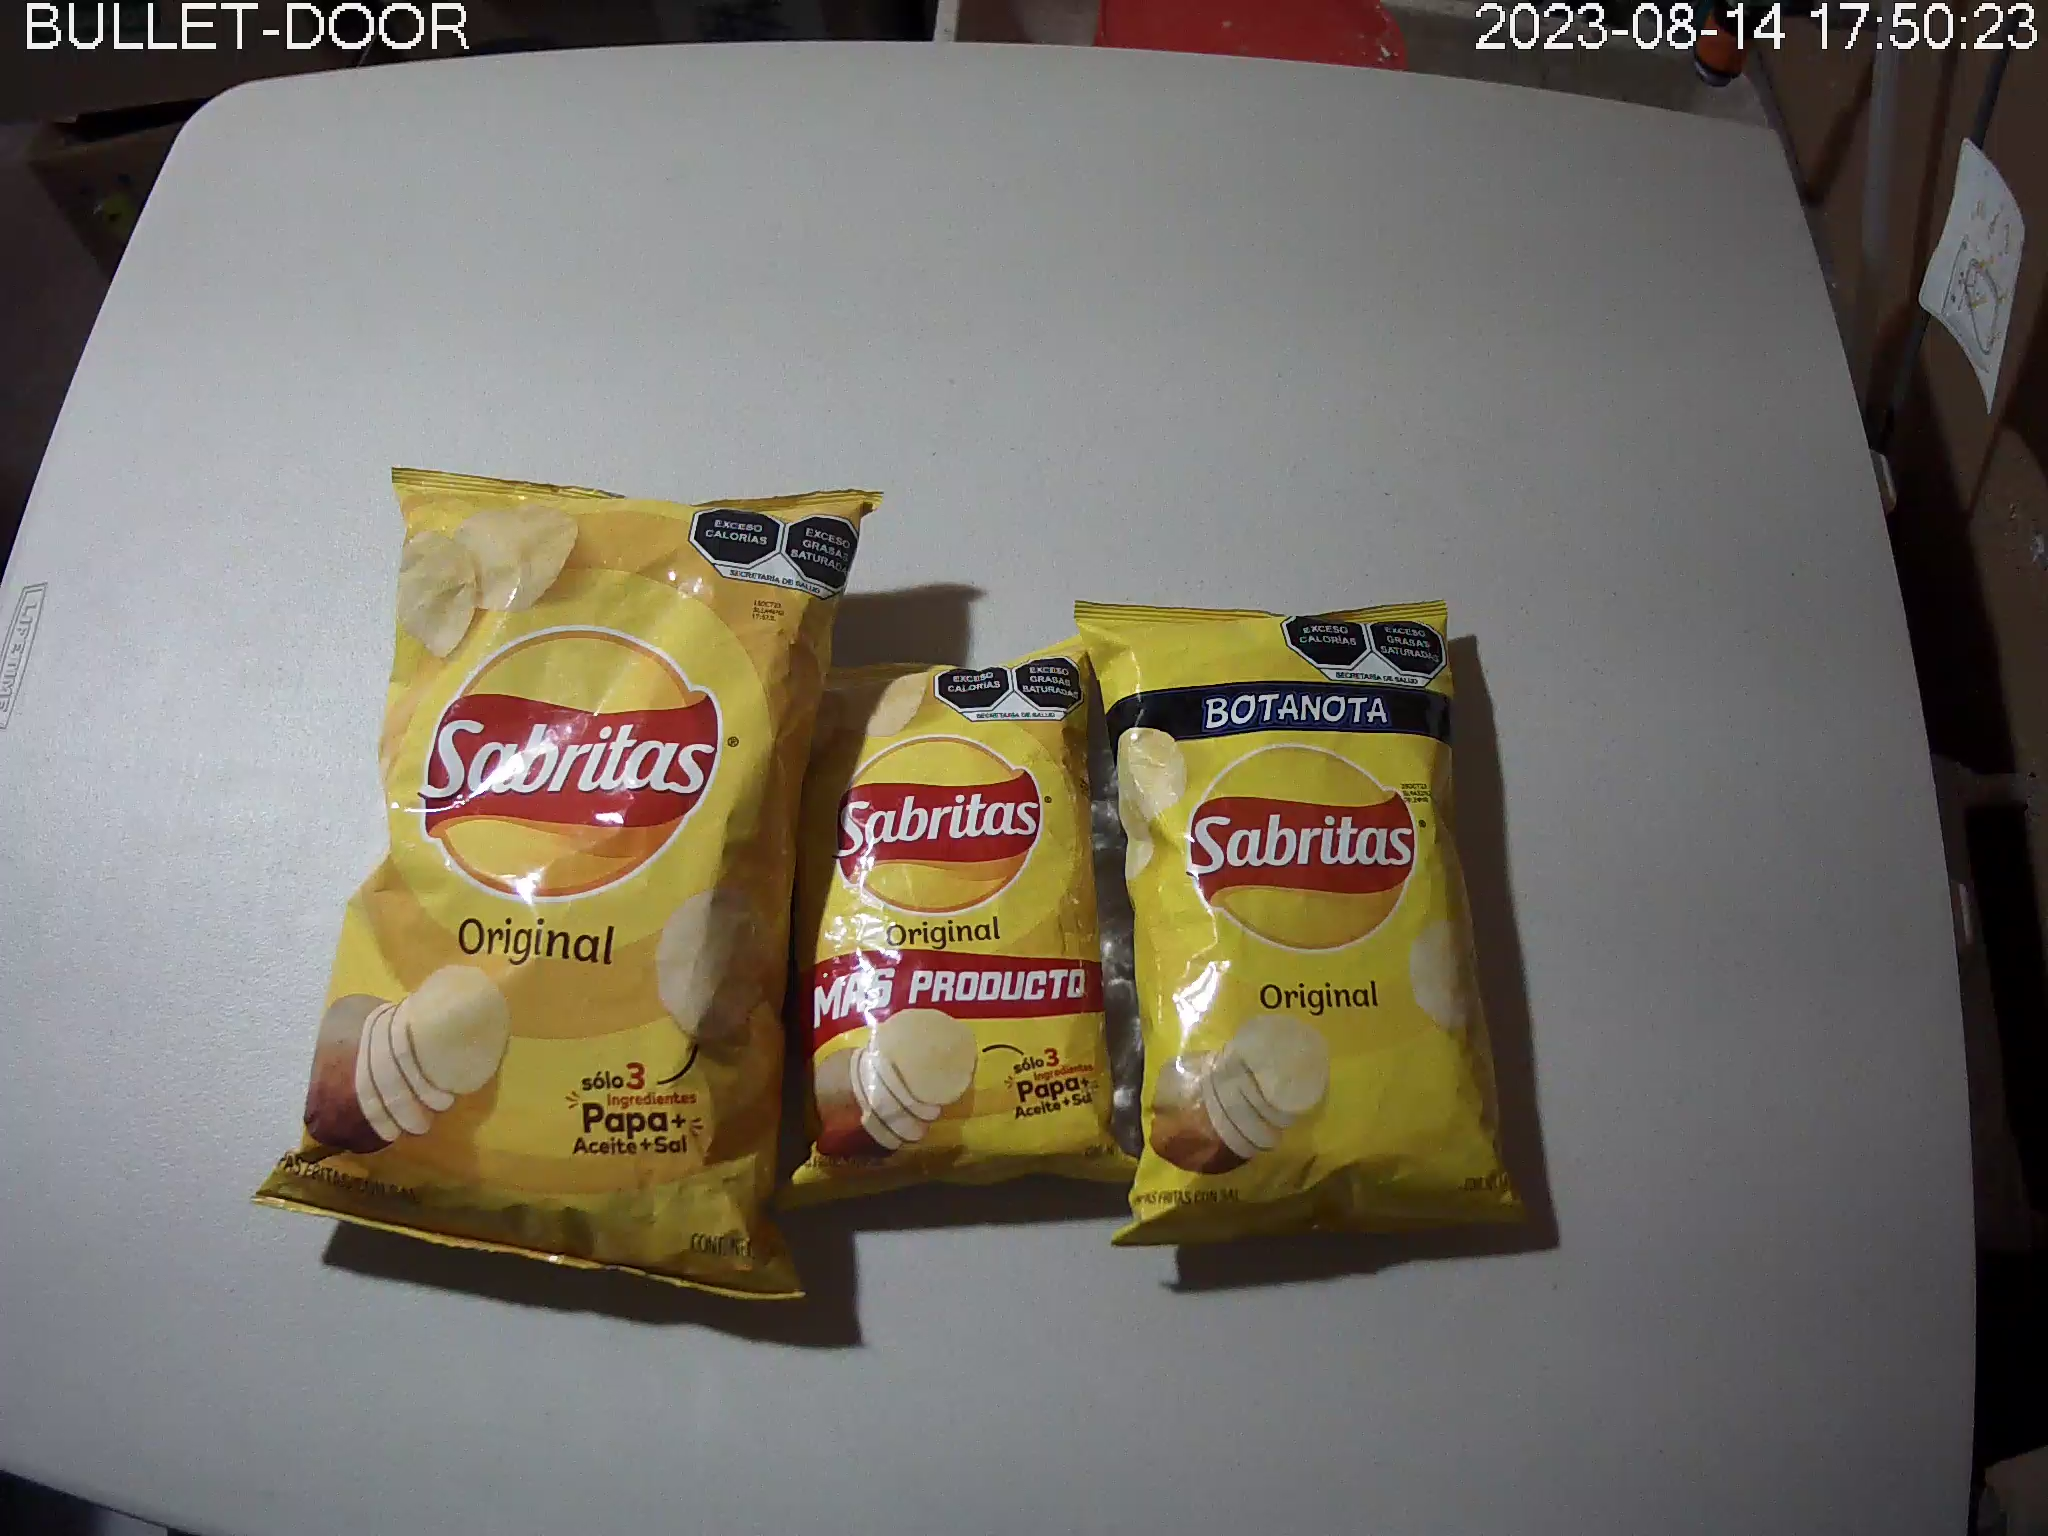Sabritas_160_F: (248, 465, 884, 1302)
Sabritas_45_F: (764, 629, 1150, 1210)
Sabritas_64_F: (1069, 595, 1537, 1242)
